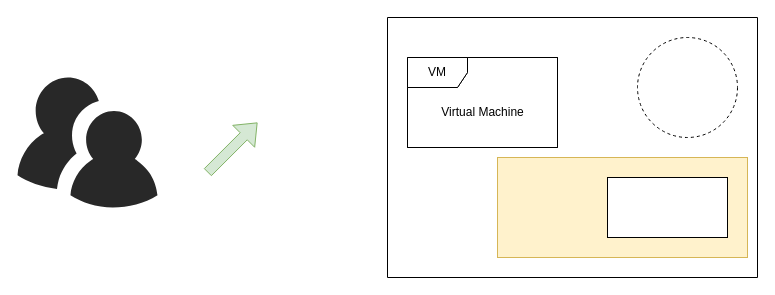
This 775x295 diagram has some shape labels left out. The centre of each missing label's shape, as x and y in pixels:
App: the point at 667,207
Cloud: the point at 687,87
